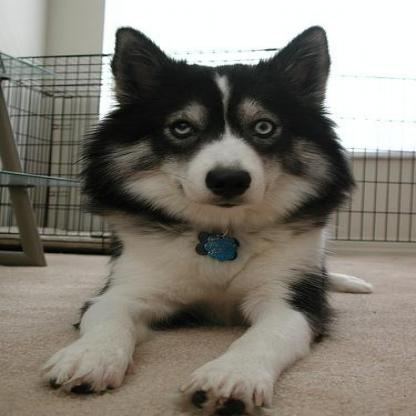Siberian_husky: (35, 24, 372, 414)
